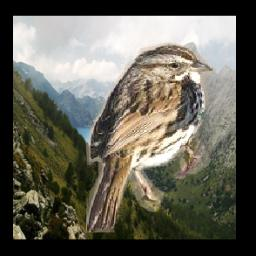Sparrow: (85, 40, 215, 232)
